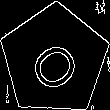O_NE: (22, 28, 86, 92)
